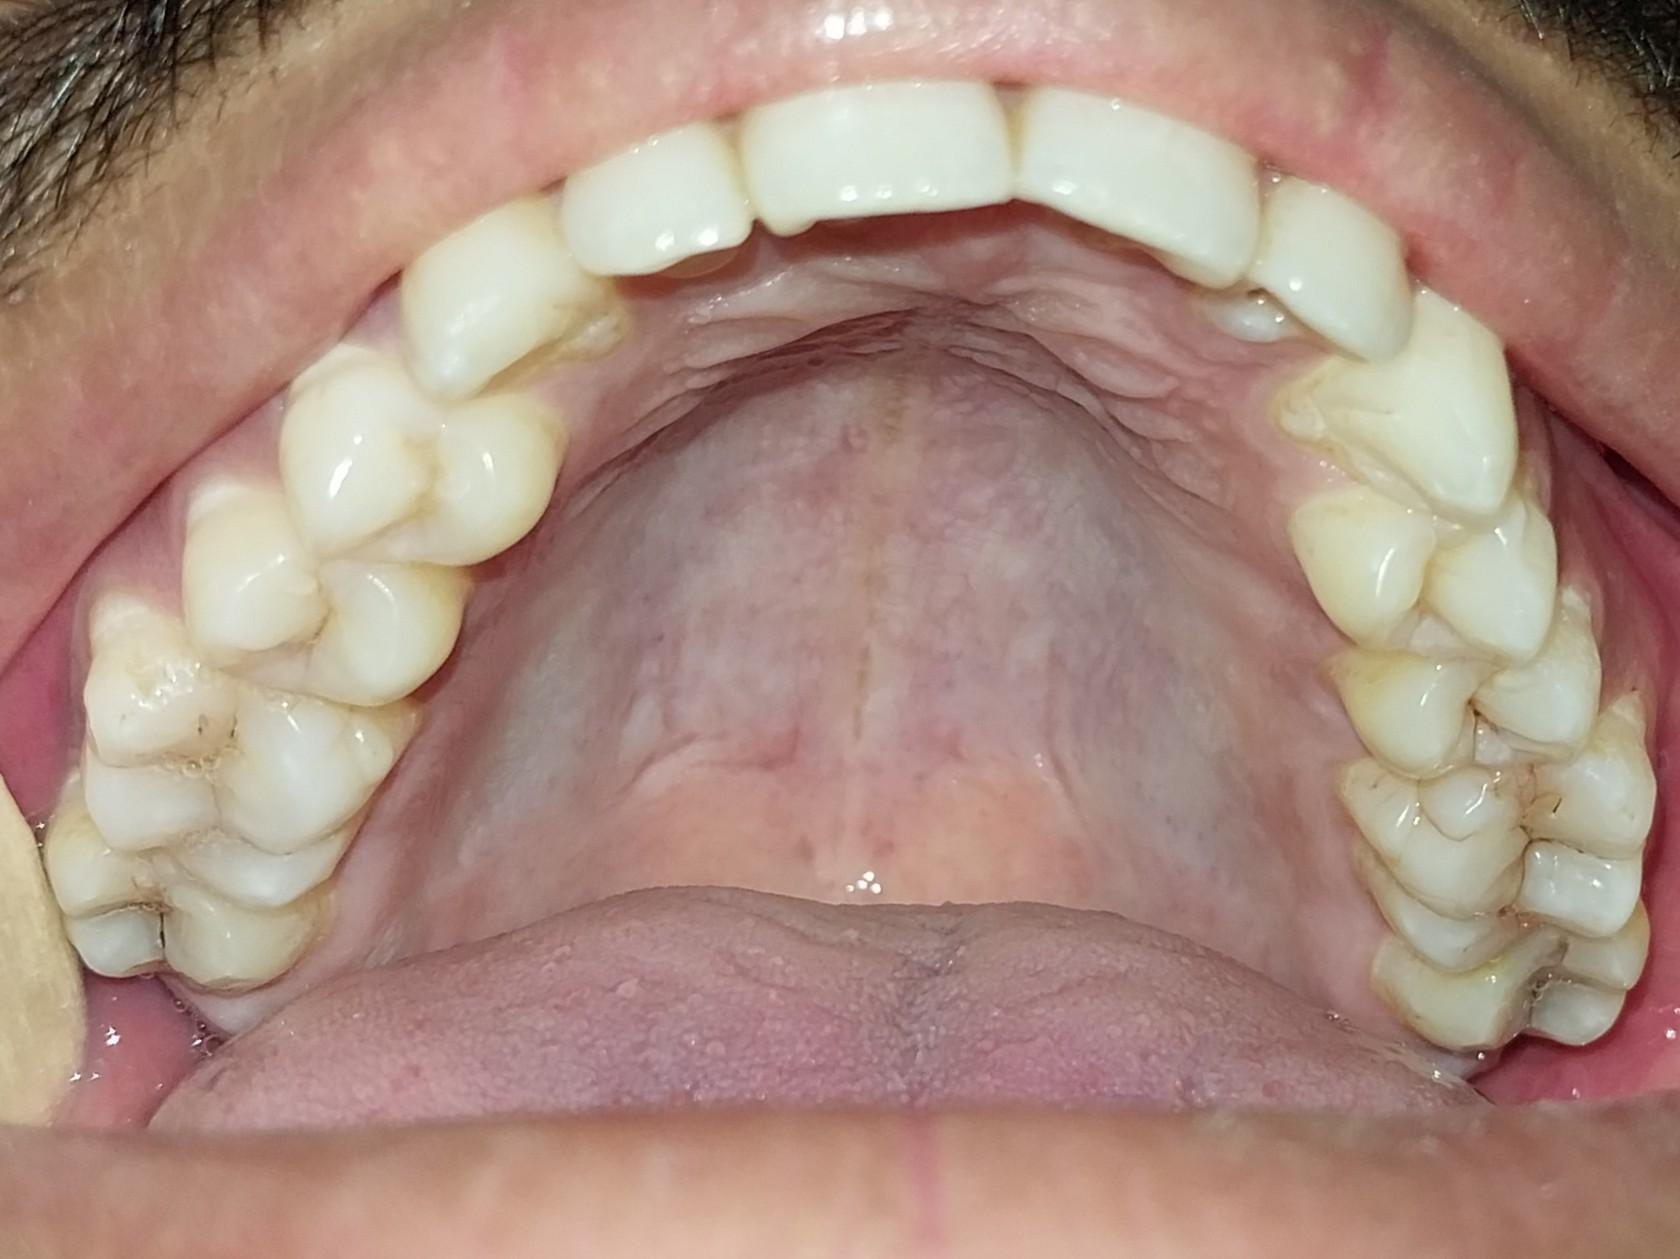D: (1361, 753, 1642, 966), (38, 802, 302, 995), (1351, 648, 1600, 785), (1375, 932, 1650, 1049)
